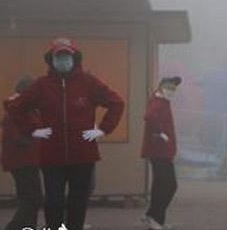person: (11, 37, 126, 230), (141, 74, 186, 230)
